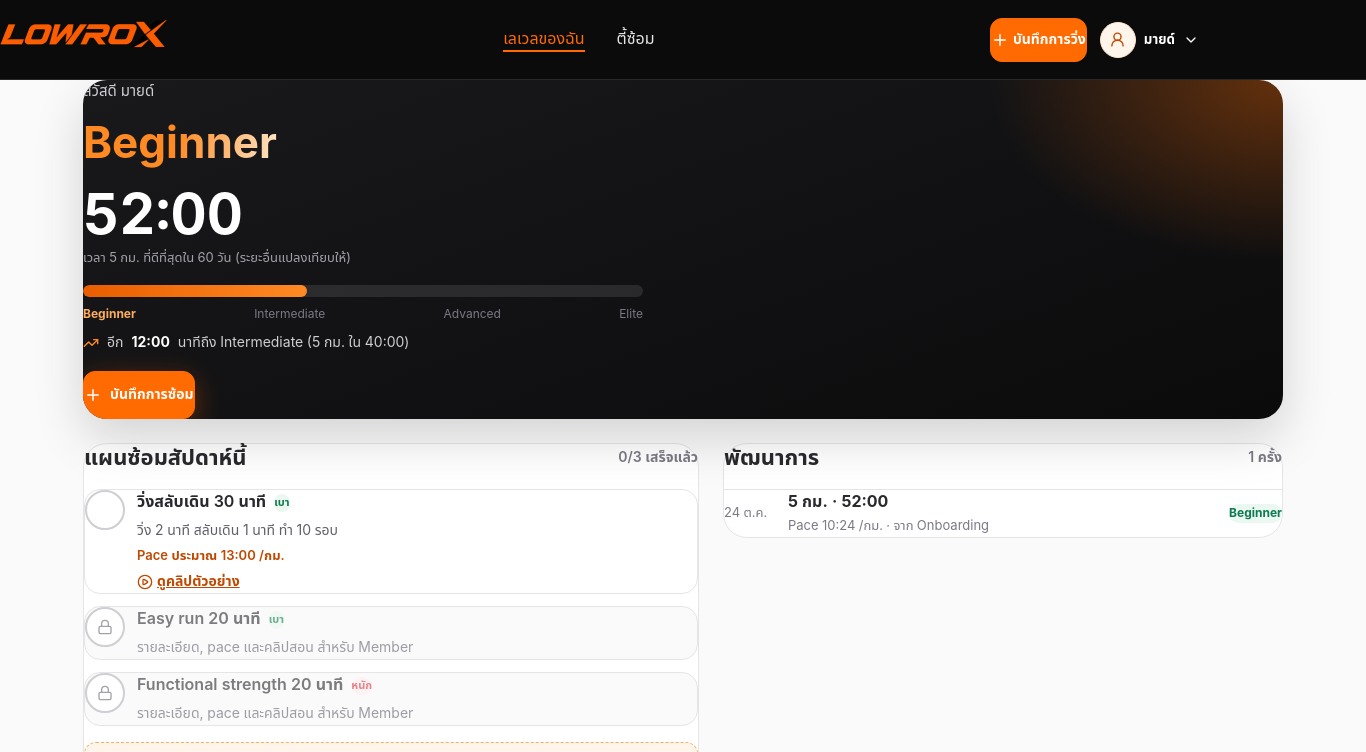
Test: My level › shows the level from onboarding, and logging a faster run levels up
The width and height of the screenshot is (1366, 752).
Check: the heading "Beginner" is shown, box [83,120,277,171]
Check: the text "52:00" is shown, box [83,175,243,259]
Click the button "บันทึกการซ้อม".
click(139, 395)  # box [83,371,194,419]
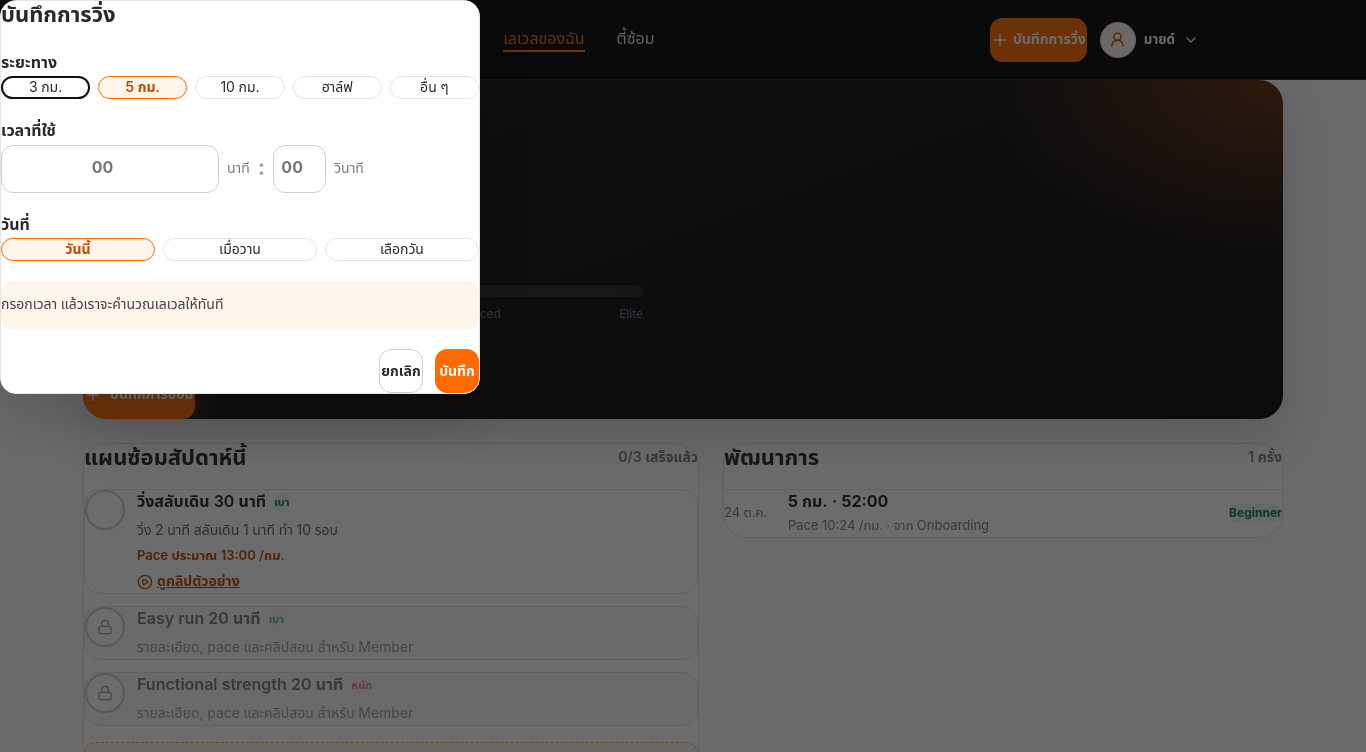
Type "38" into the number field named "นาที".
click(110, 169); type("38")  # box [1,145,219,193]
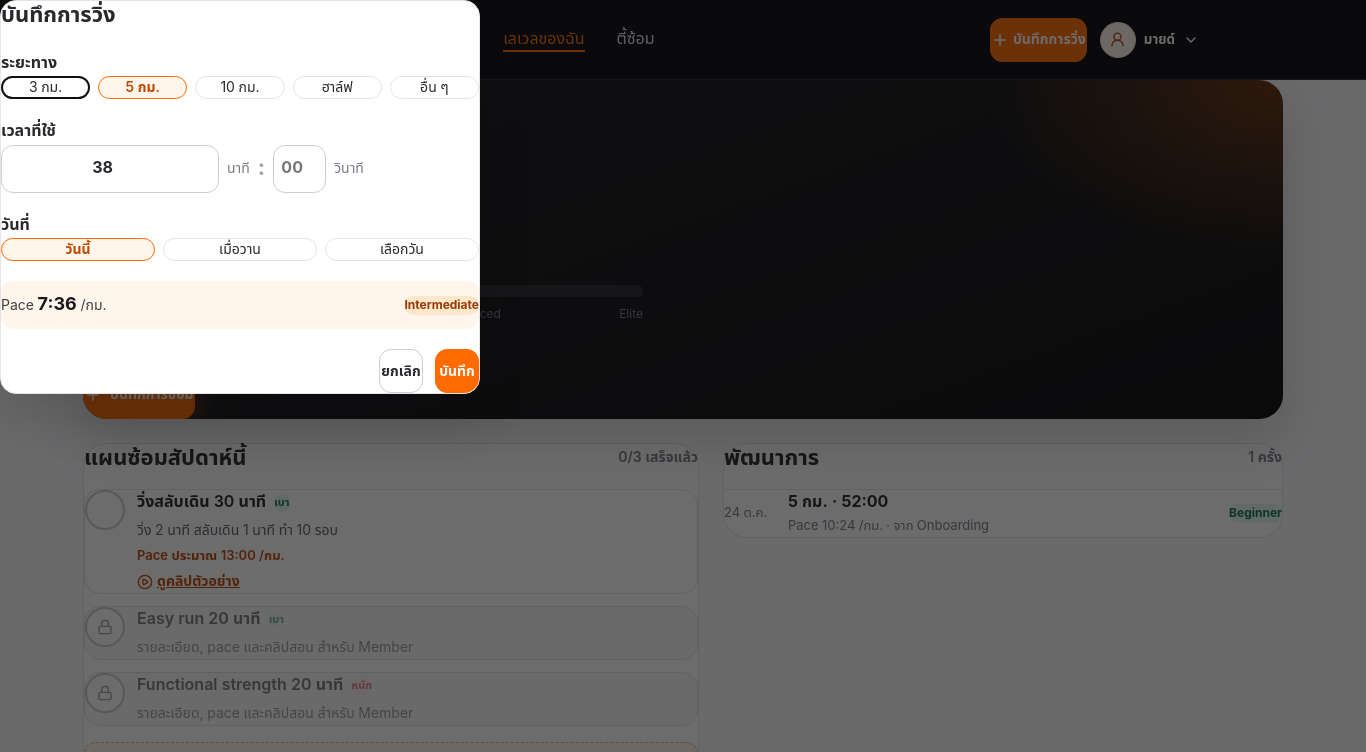
Check: the text "Intermediate" is shown, box [404,296,479,315]
Click the button "บันทึก".
click(457, 372)  # box [435,350,479,394]
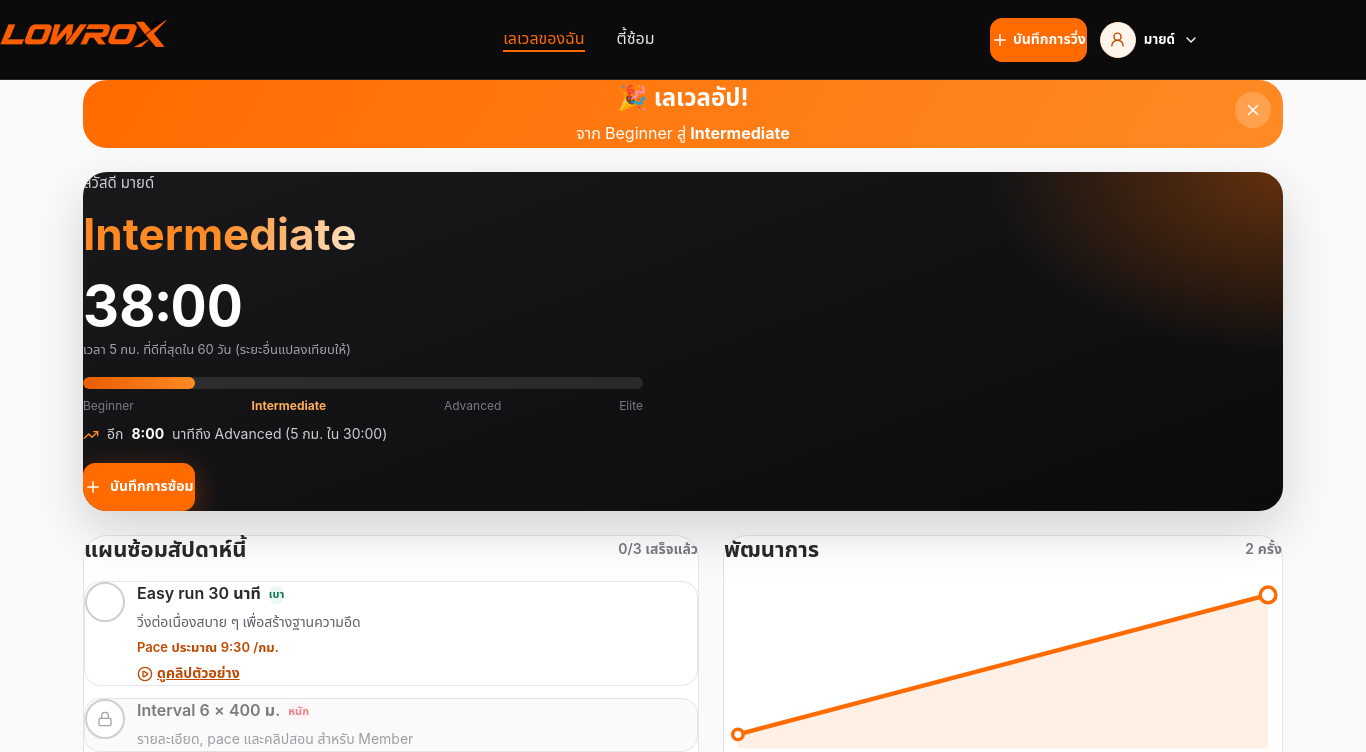
Check: the message "🎉 เลเวลอัป! จาก Beginner สู่ Intermediate" is shown, box [83,80,1283,148]
Check: the heading "Intermediate" is shown, box [83,212,356,263]
